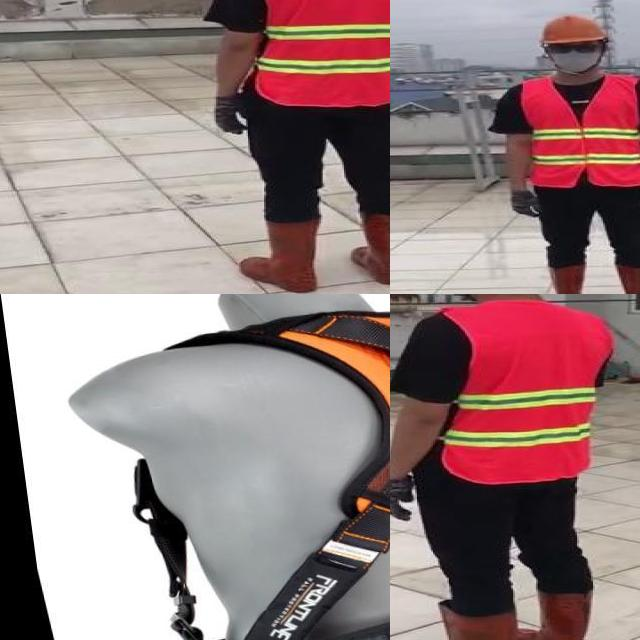Harness: (171, 312, 390, 640)
boots: (240, 216, 326, 294), (508, 588, 597, 640), (404, 605, 520, 640), (345, 209, 390, 285), (542, 267, 587, 294), (613, 266, 640, 294)
face_mask: (544, 40, 602, 72)
glasses: (538, 40, 600, 55)
hand_glove: (213, 90, 255, 137), (390, 476, 416, 523), (509, 193, 541, 217)
head_helmet: (536, 14, 606, 46)
person: (390, 294, 619, 640), (197, 0, 390, 294), (487, 13, 640, 294)
vest: (424, 300, 613, 486), (249, 0, 390, 105), (521, 76, 640, 189)
